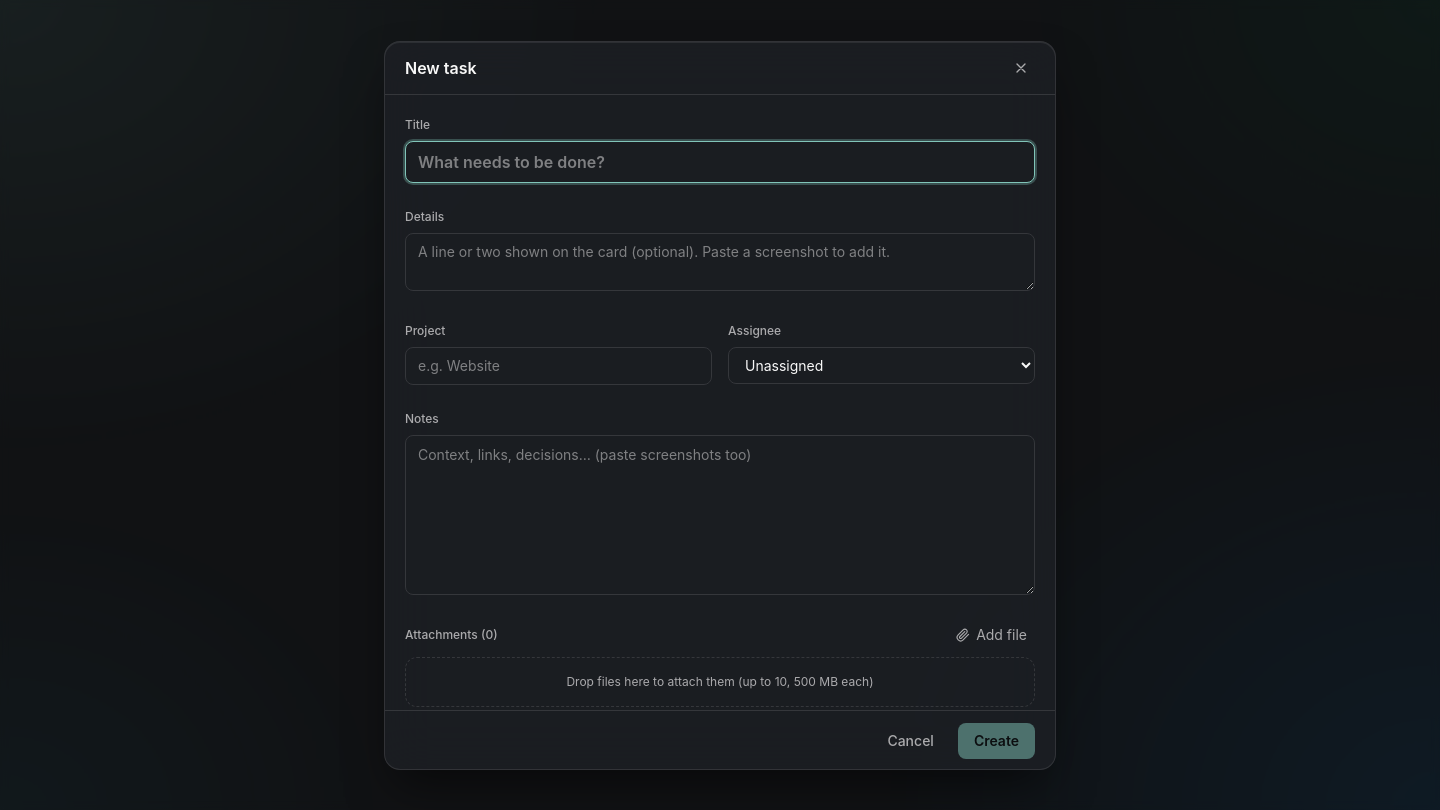
Test: text that carries image markdown › is never kept when typed or dropped in either
Type "x ![a.png](attachment:attachments/b_1/01X-a.png) y" into the text box labelled "Notes". click: {"x": 720, "y": 514}
box: [405,434,1035,594]
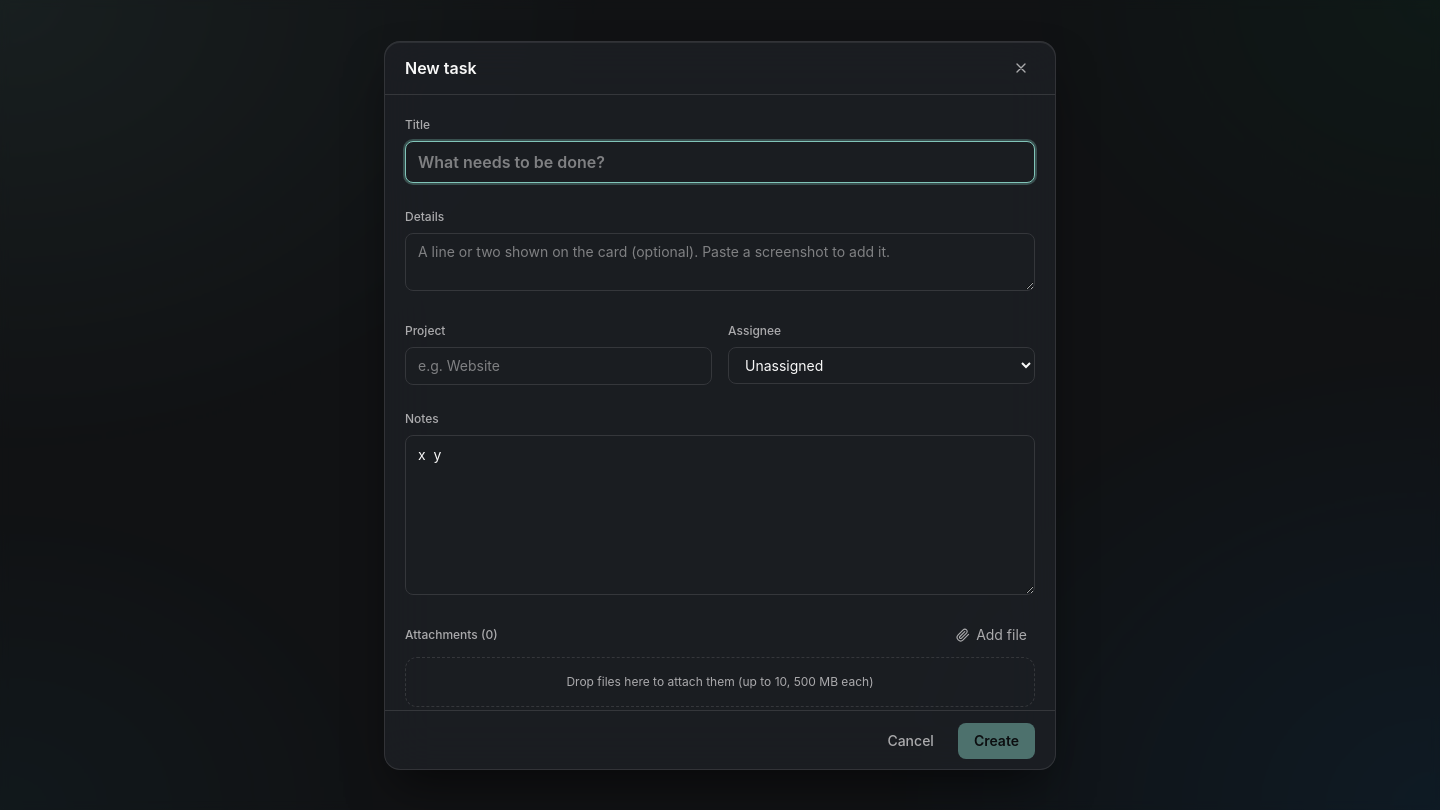
Expected: the text box labelled "Notes" holds "x  y", [405,434,1035,594]
